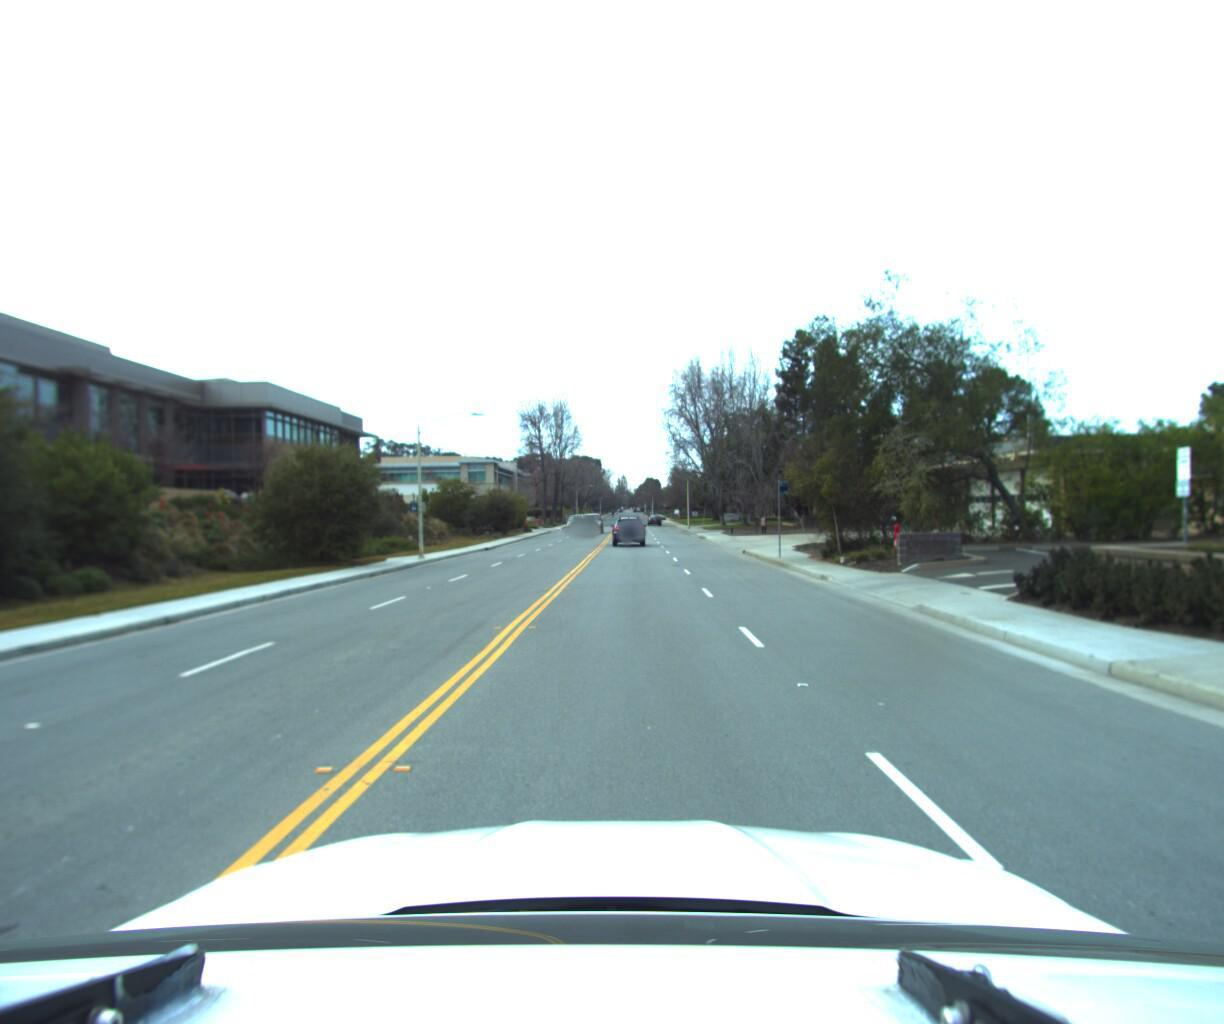car: (614, 513, 646, 542), (578, 508, 604, 530), (564, 510, 586, 527)
